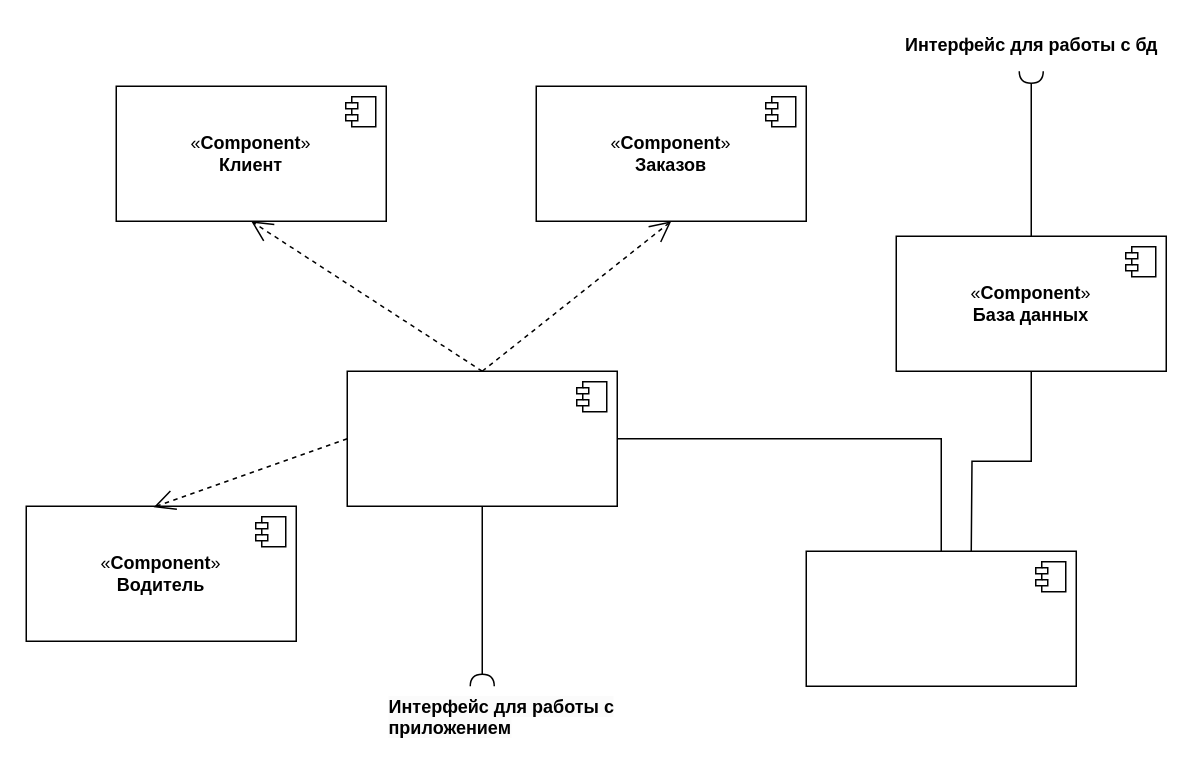
Some shapes in this 1193 by 771 pixel diagram are drawn without their labels. Each missing label, with the box of its shape:
« Component » Приложение: (346, 370, 617, 506)
« Component » Сервер приложения: (805, 550, 1076, 686)
